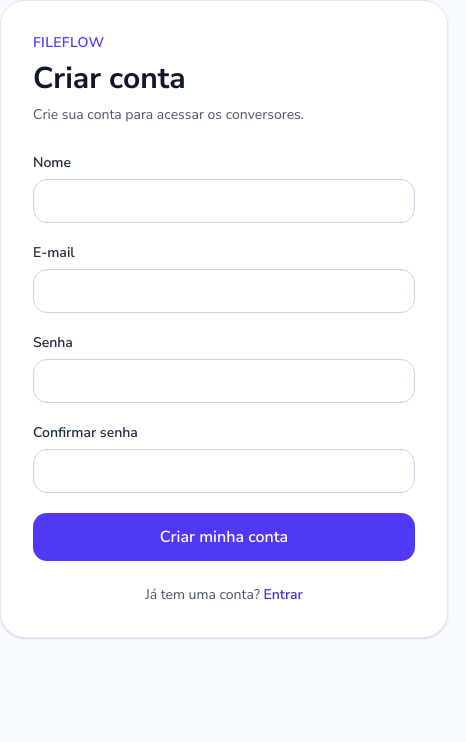
Test: AuthForm › preserva nome e e-mail, limpa senhas e traduz limite de cadastro
This screenshot has width=466, height=742.
Step 1. Type "  Pessoa Teste  " into the field labelled "Nome" → x=224, y=201, box [33,179,415,223]
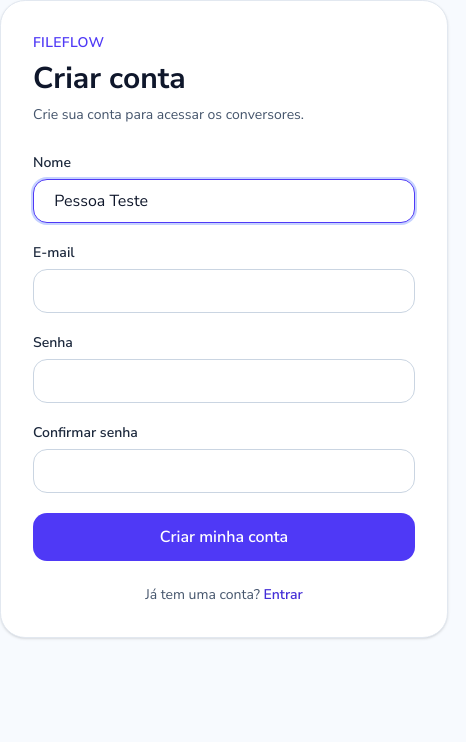
Step 2. Type "pessoa@example.test" into the field labelled "E-mail" → x=224, y=291, box [33,269,415,313]
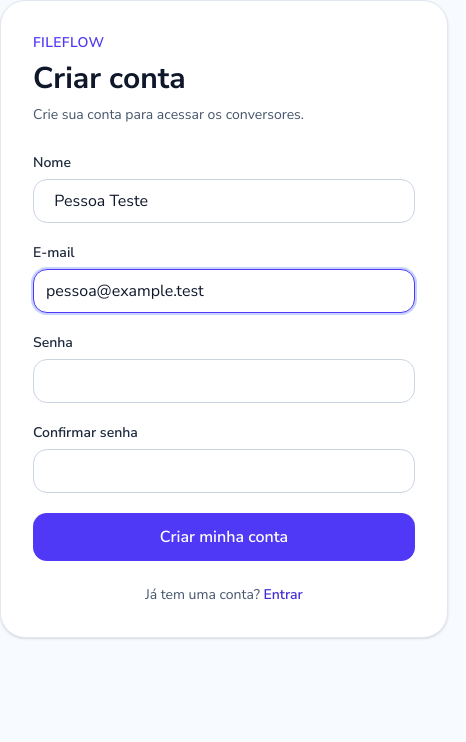
Step 3. Type "senha-segura" into the password field labelled "Senha" → x=224, y=381, box [33,359,415,403]
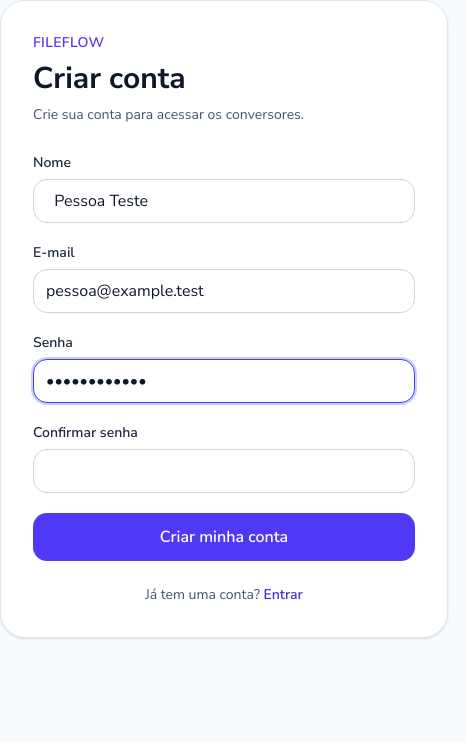
Step 4. Type "senha-segura" into the password field labelled "Confirmar senha" → x=224, y=471, box [33,449,415,493]
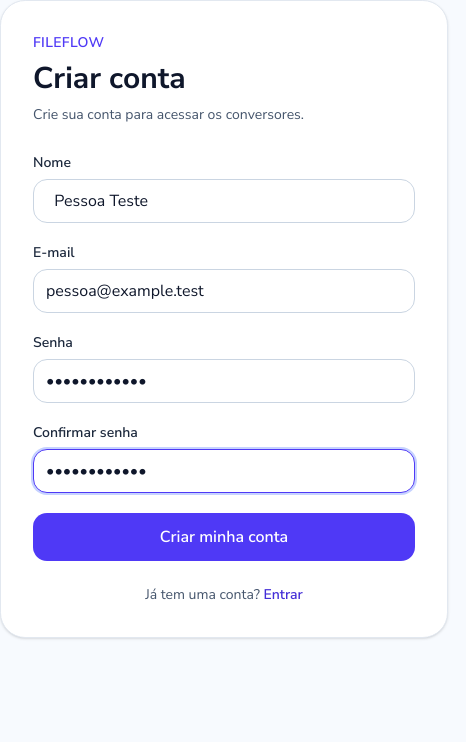
Step 5. Click the button "Criar minha conta" → x=224, y=537, box [33,513,415,561]
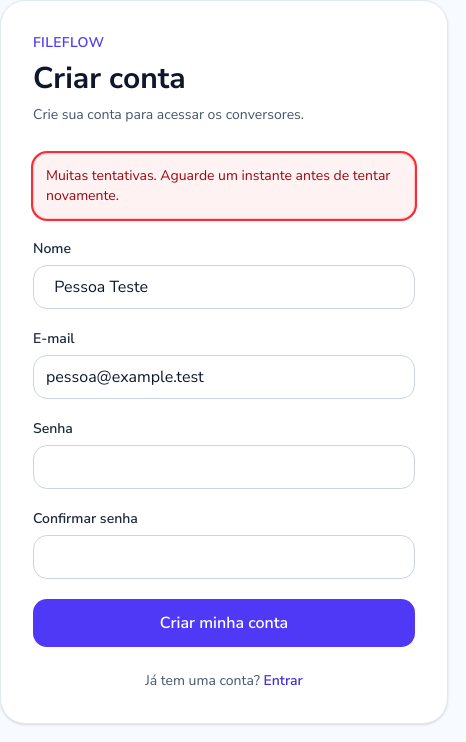
Expected: the text "Muitas tentativas. Aguarde um instante antes de tentar novamente." is shown, [33,153,415,219]
Expected: the password field labelled "Senha" is empty, [33,445,415,489]
Expected: the password field labelled "Confirmar senha" is empty, [33,535,415,579]
